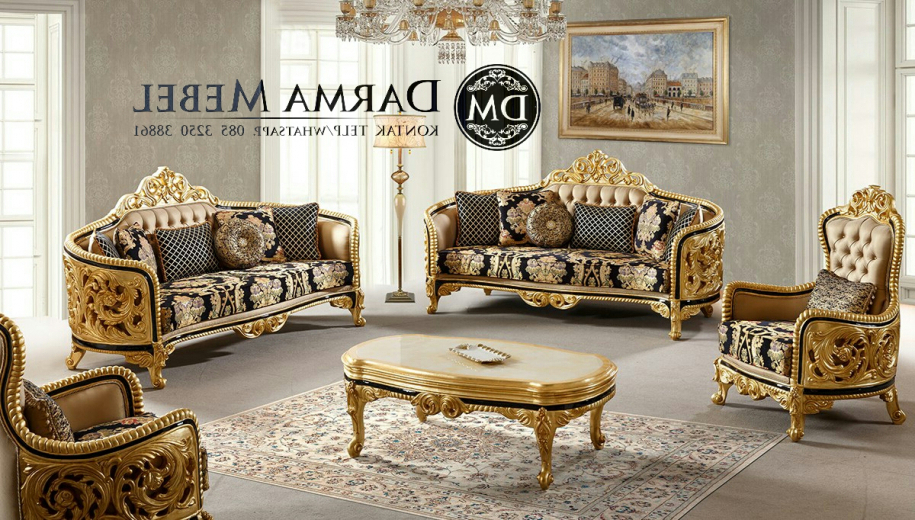Carving Chair: (66, 183, 367, 344), (417, 158, 712, 316), (704, 200, 903, 430)
Carving Table: (331, 339, 634, 477)
